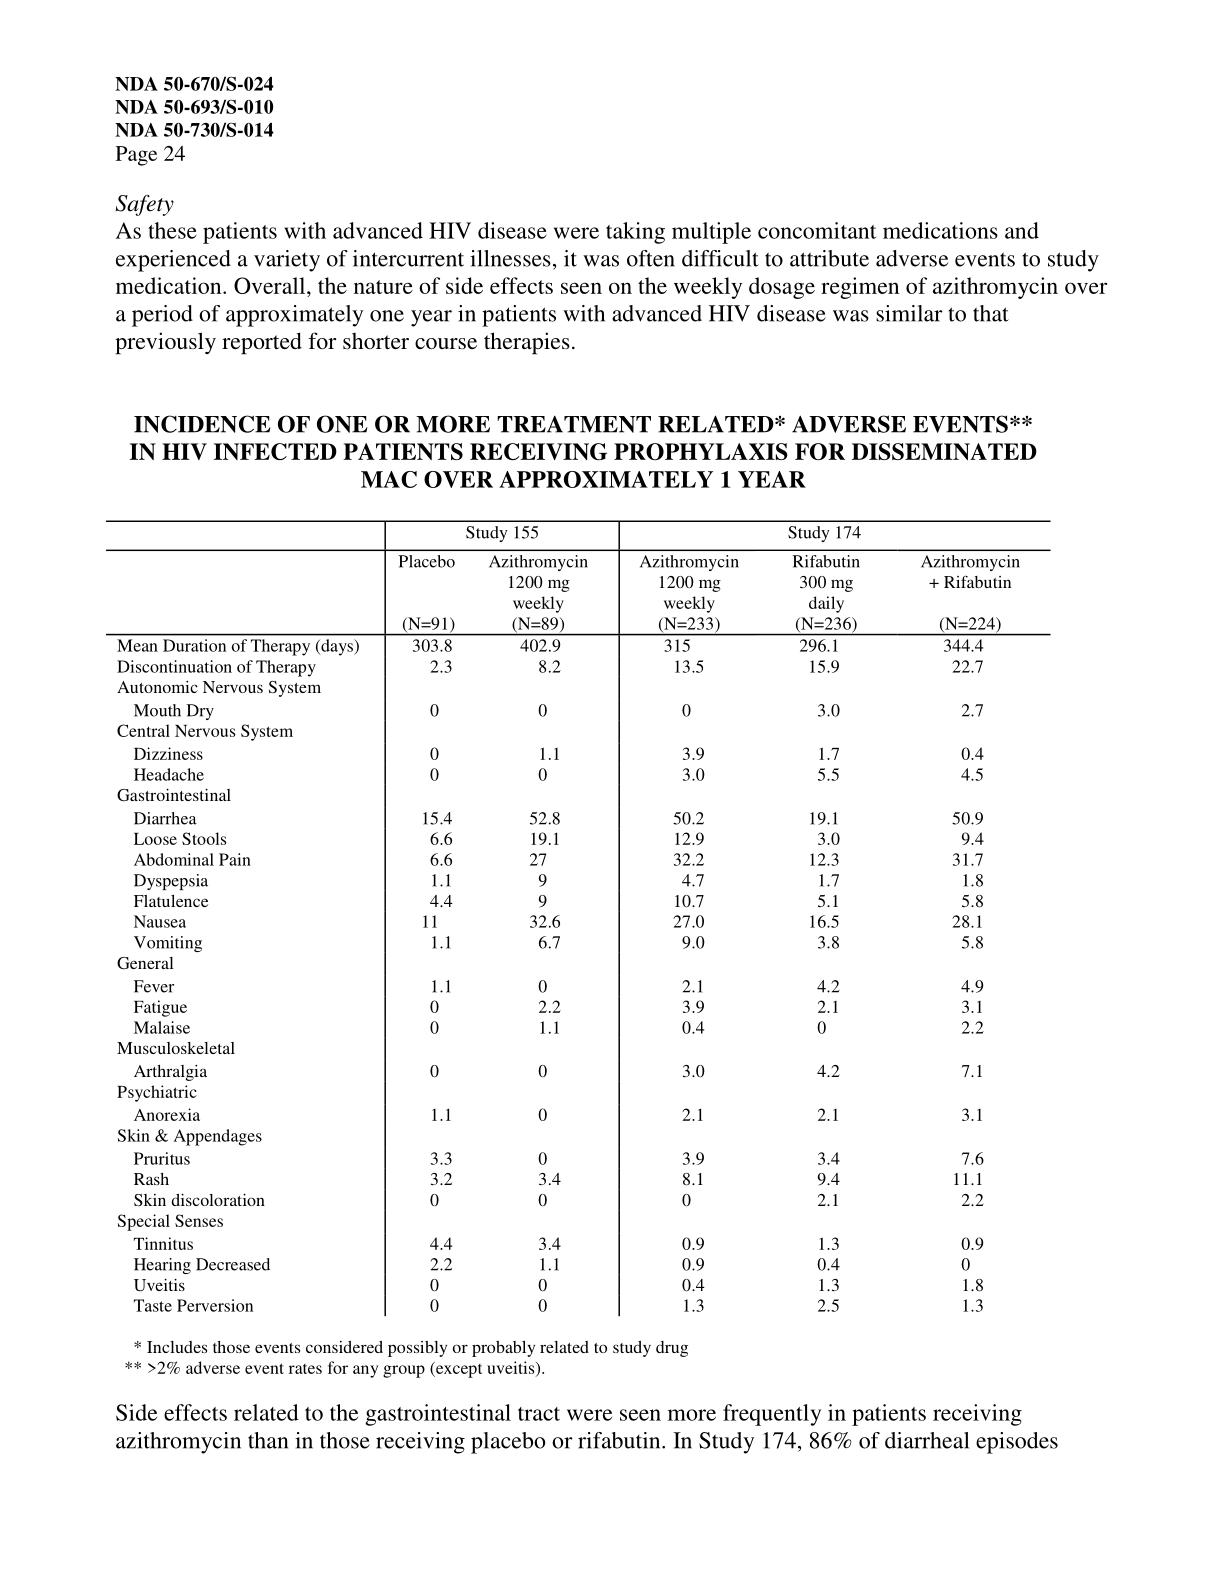partial_lined: (105, 519, 1053, 1320)
